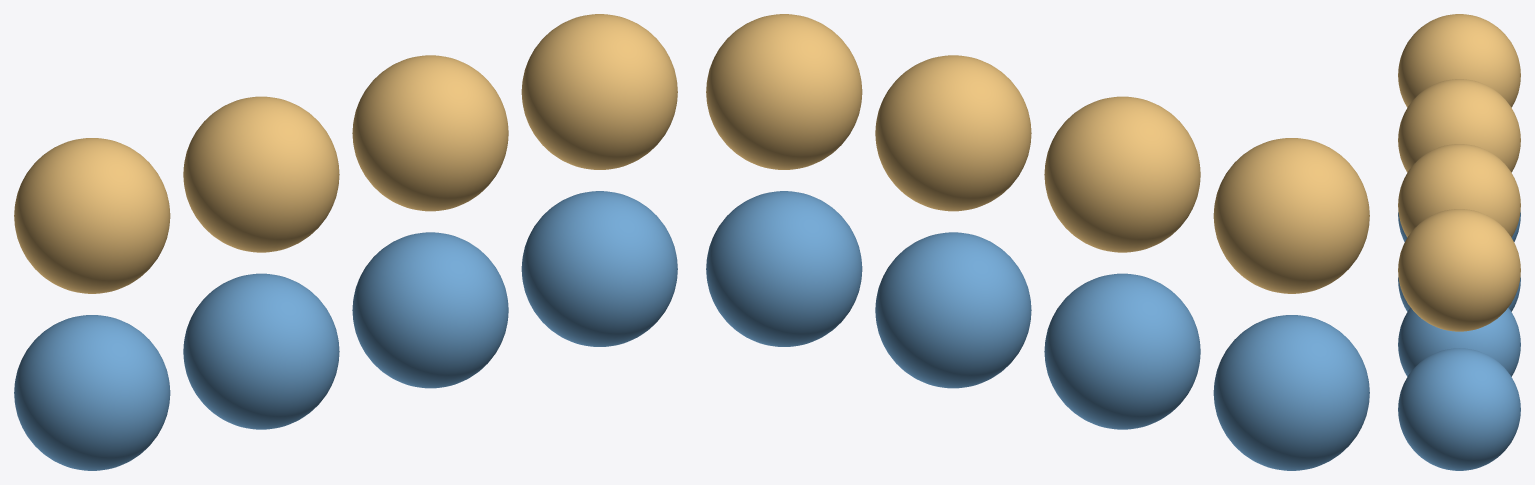
File: material-study.glb
The picture shows the model from 3 angles, left to right: view 1: azimuth 30°, elevation 25°; view 2: azimuth 150°, elevation 25°; view 3: azimuth 270°, elevation 25°; orthographic projection. The views are drawn at different scales.
Bounding box in the file's own units: 9.5 × 4.5 × 2.
